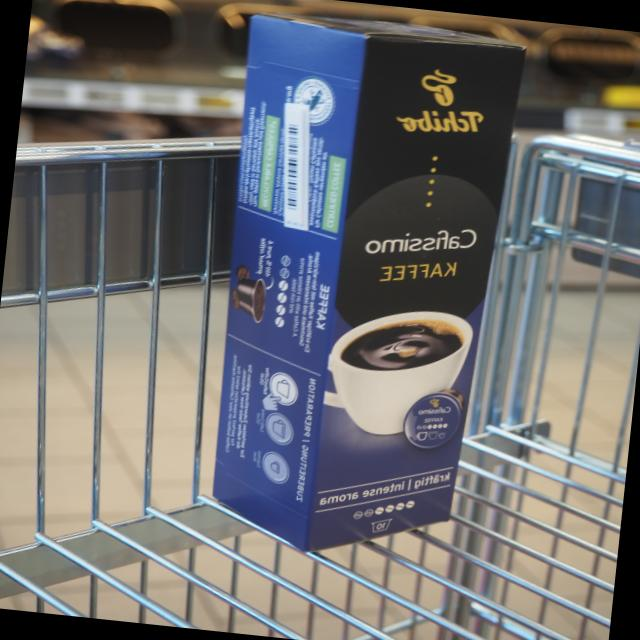Simo Kaffee Kraft: (302, 30, 533, 558)
